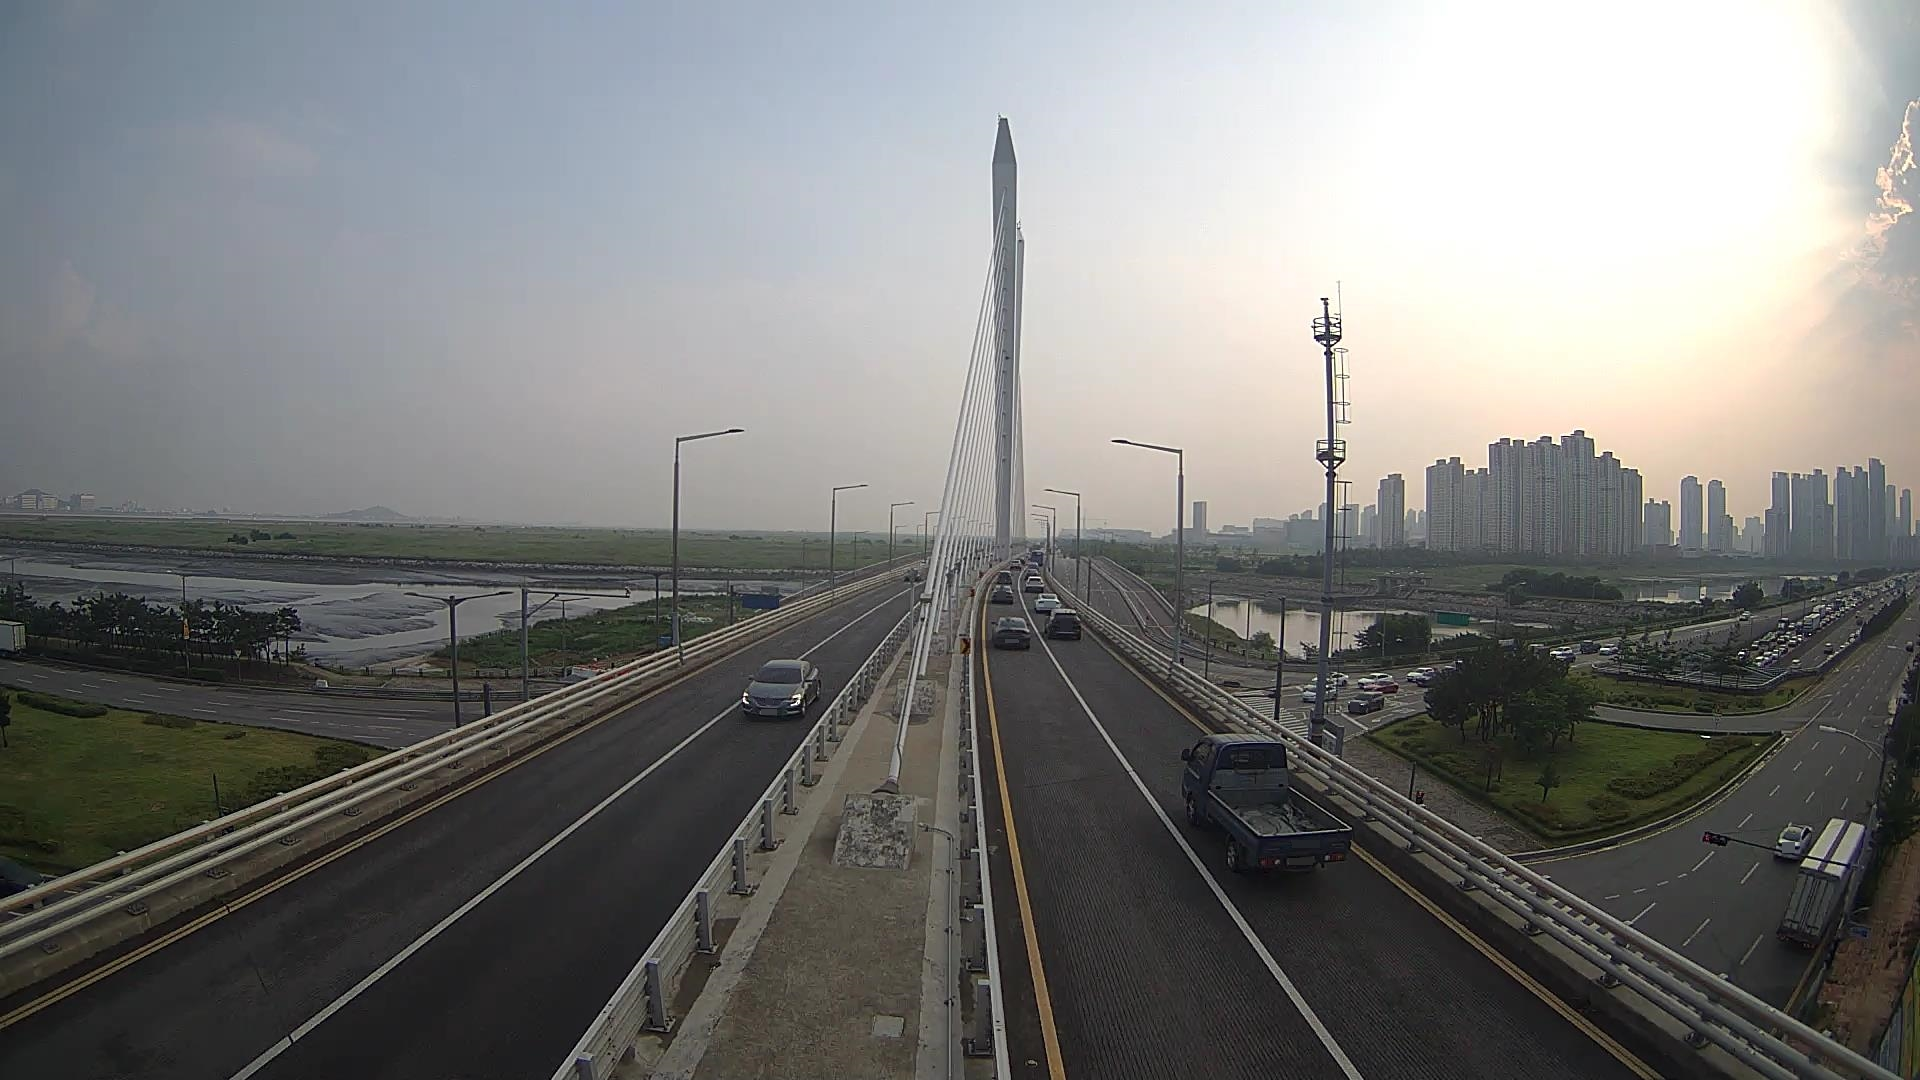정상차량: (1180, 732, 1353, 872)
